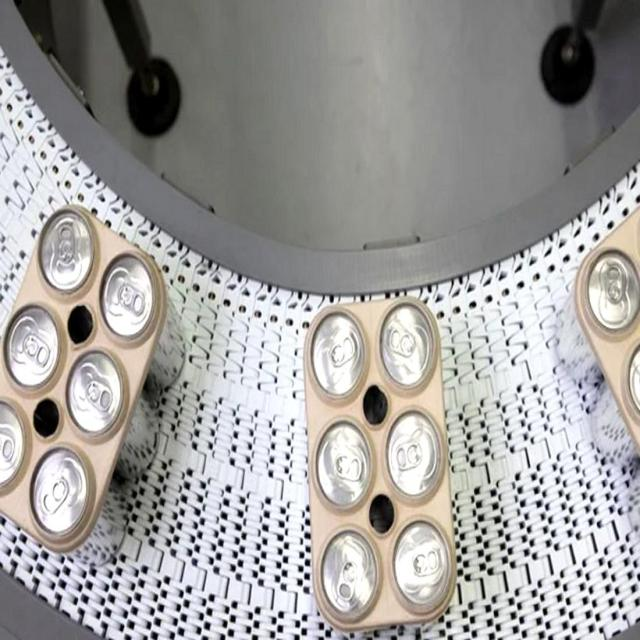bottle: (1, 202, 168, 555), (302, 294, 457, 634), (572, 203, 639, 460)
